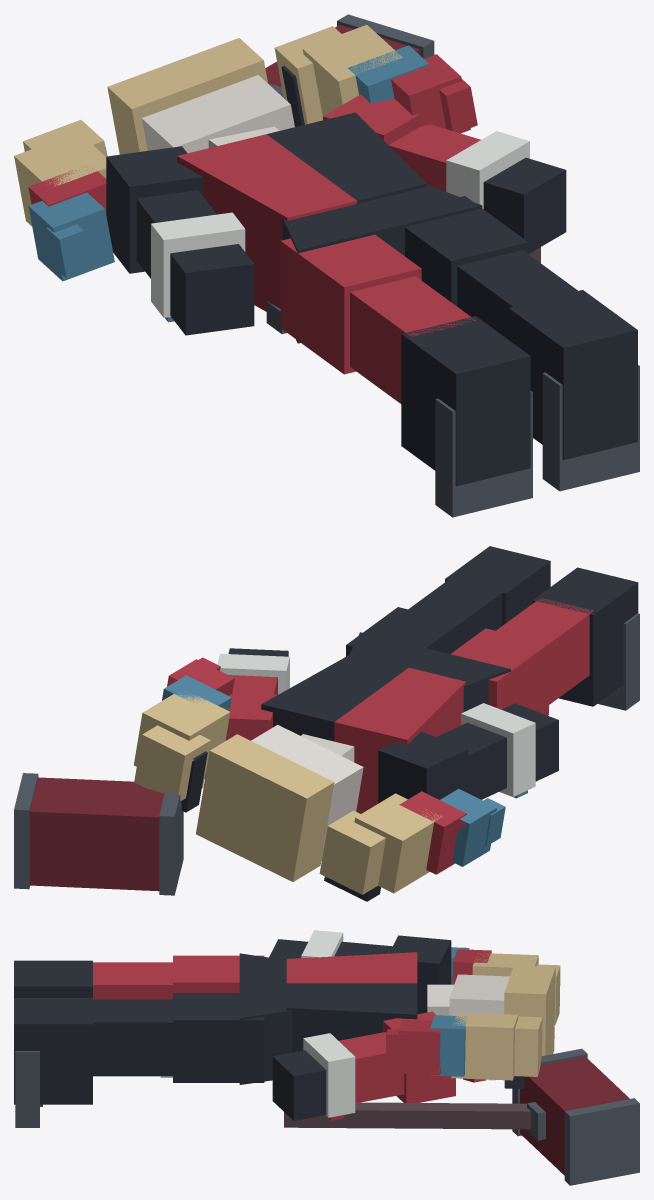
Rendered from gotham_harley_quinn.glb.
3 renders of one model, top to bottom at view 1: azimuth 30°, elevation 25°; view 2: azimuth 150°, elevation 25°; view 3: azimuth 270°, elevation 25°, orthographic. The views are drawn at different scales.
Visible parts, largest first — view 1: L boot, R boot, corset - split red, L thigh, L shin, blonde crown, corset - split black, L glove, made-up face, hip, R thigh, L shoulder (+21 smaller); view 2: mallet head, blonde crown, corset - split red, L boot, corset - split black, L thigh, L shin, L shoulder, L pony length, R boot, hip, made-up face (+21 smaller); view 3: R thigh, R boot, corset - split black, R shin, mallet iron band.001, mallet handle, mallet head, hip, corset - split red, R pony length, R glove, L shin (+21 smaller).
Boxes of the visible parts, box(x1,y1,x2,y2) form: L boot: box(401, 316, 530, 486); R boot: box(508, 290, 637, 460); corset - split red: box(177, 134, 357, 311); L thigh: box(280, 234, 421, 374); L shin: box(350, 276, 475, 403); blonde crown: box(107, 38, 267, 154); corset - split black: box(266, 112, 427, 203); L glove: box(170, 244, 254, 335); made-up face: box(142, 75, 294, 153); hip: box(282, 185, 482, 343); R thigh: box(405, 196, 528, 306); L shoulder: box(106, 146, 202, 273); mallet head: box(29, 777, 164, 891); blonde crown: box(196, 734, 334, 881); corset - split red: box(334, 667, 465, 813); L boot: box(532, 567, 638, 706); corset - split black: box(261, 653, 408, 741); L thigh: box(450, 628, 548, 715); L shin: box(496, 597, 593, 704); L shoulder: box(378, 731, 467, 803); L pony length: box(354, 793, 442, 893); R boot: box(445, 546, 550, 625); hip: box(349, 632, 510, 711); made-up face: box(251, 724, 363, 860); R thigh: box(173, 993, 264, 1082); R boot: box(14, 998, 92, 1104); corset - split black: box(286, 983, 417, 1052); R shin: box(84, 999, 172, 1076); mallet iron band.001: box(564, 1098, 639, 1185); mallet handle: box(284, 1102, 530, 1129); mallet head: box(520, 1056, 629, 1175); hip: box(239, 953, 292, 1084); corset - split red: box(286, 952, 417, 983); R pony length: box(451, 1012, 518, 1080); R glove: box(272, 1050, 326, 1120); L shin: box(93, 962, 172, 999).
Size of the model in its own units: 1.51 by 0.5335 by 2.36.
